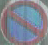No waiting: (2, 1, 47, 43)
